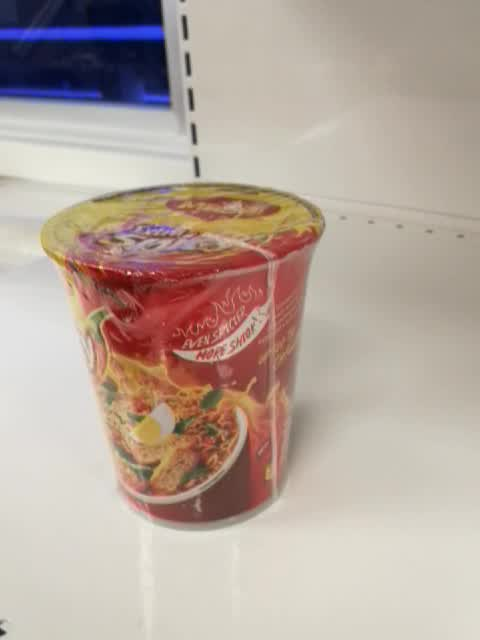maggi: (40, 182, 327, 533)
